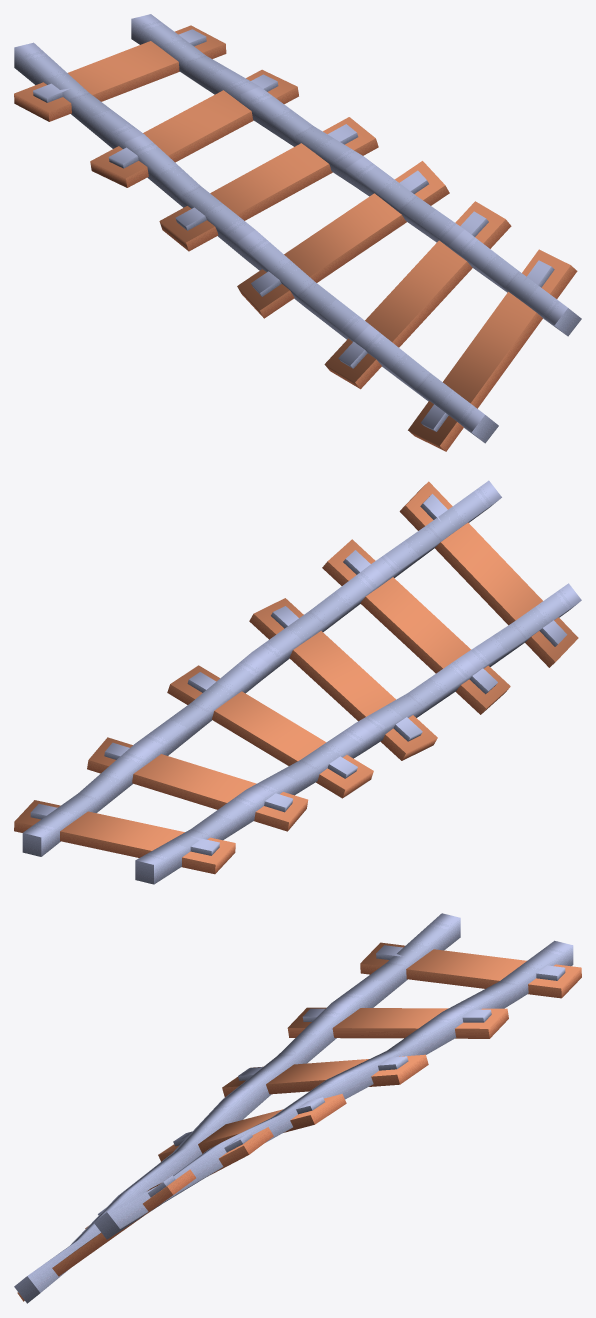
Rendered from railroad-damaged-straight-skew-right.glb.
3 views of the same model, one above another, from view 1: azimuth 30°, elevation 25°; view 2: azimuth 150°, elevation 25°; view 3: azimuth 330°, elevation 25° (orthographic). The views are drawn at different scales.
Parts seen in each view (by area): view 1: railroad-damaged-straight-skew-right; view 2: railroad-damaged-straight-skew-right; view 3: railroad-damaged-straight-skew-right.
Boxes of the visible parts, left/top/right/bottom form: railroad-damaged-straight-skew-right: left=14, top=14, right=581, bottom=451; railroad-damaged-straight-skew-right: left=14, top=480, right=581, bottom=884; railroad-damaged-straight-skew-right: left=14, top=913, right=581, bottom=1303.
Bounding box in the file's own units: 1.03 × 0.7248 × 4.
Materials: 1 (1 with a texture image).
